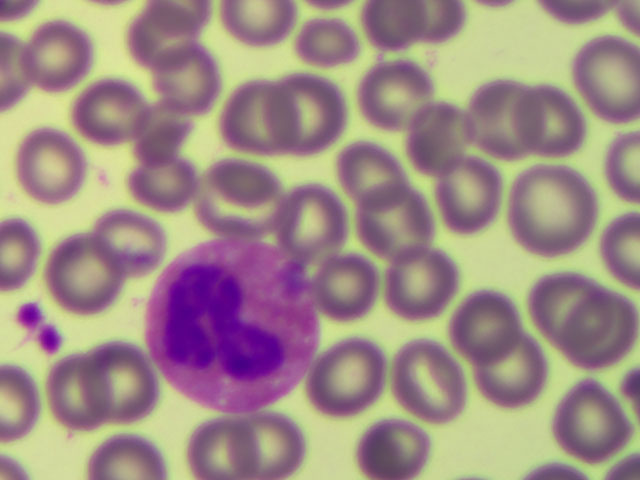Platelets: (10, 299, 74, 356)
RBC: (21, 12, 101, 91), (72, 71, 152, 150), (15, 127, 95, 206), (122, 144, 202, 223), (129, 90, 209, 169), (142, 36, 222, 115), (124, 3, 204, 82), (212, 73, 292, 152), (269, 72, 349, 151), (285, 14, 365, 93), (349, 50, 429, 129), (391, 94, 471, 173), (462, 83, 542, 162), (507, 80, 587, 159), (427, 151, 507, 230), (359, 186, 439, 265), (325, 132, 405, 211), (274, 179, 354, 258), (204, 158, 284, 237), (93, 200, 173, 279), (48, 229, 128, 308), (90, 345, 170, 424), (38, 359, 118, 438), (175, 401, 255, 480), (239, 401, 319, 480), (362, 401, 442, 480), (308, 340, 388, 419), (392, 340, 472, 419), (319, 242, 399, 321), (394, 242, 474, 321), (447, 283, 527, 362), (469, 334, 549, 413), (523, 264, 603, 343), (560, 294, 640, 373), (513, 164, 593, 243), (554, 380, 634, 459), (575, 32, 640, 124), (360, 1, 432, 50)
WBC: (148, 238, 319, 407)
